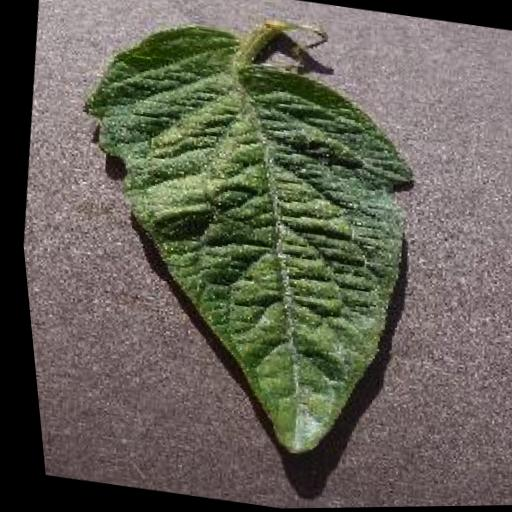Spider Mites: (19, 6, 450, 476)
